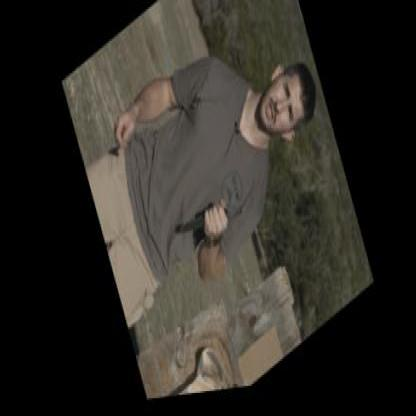knife: (168, 184, 234, 271)
